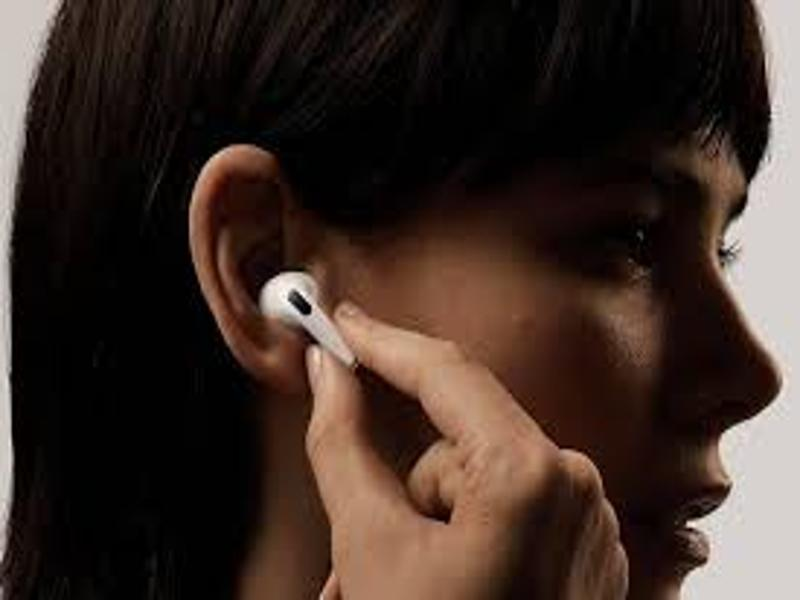headphone: (252, 265, 363, 370)
